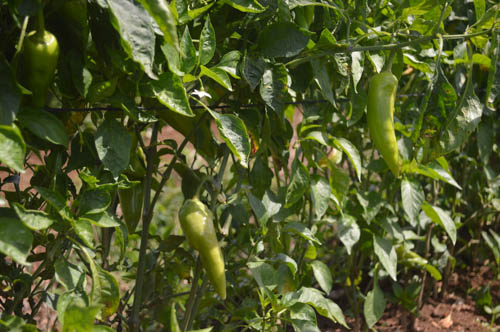ChiliPepper: (183, 202, 226, 298), (365, 74, 404, 173), (22, 37, 59, 108), (118, 181, 142, 234)
